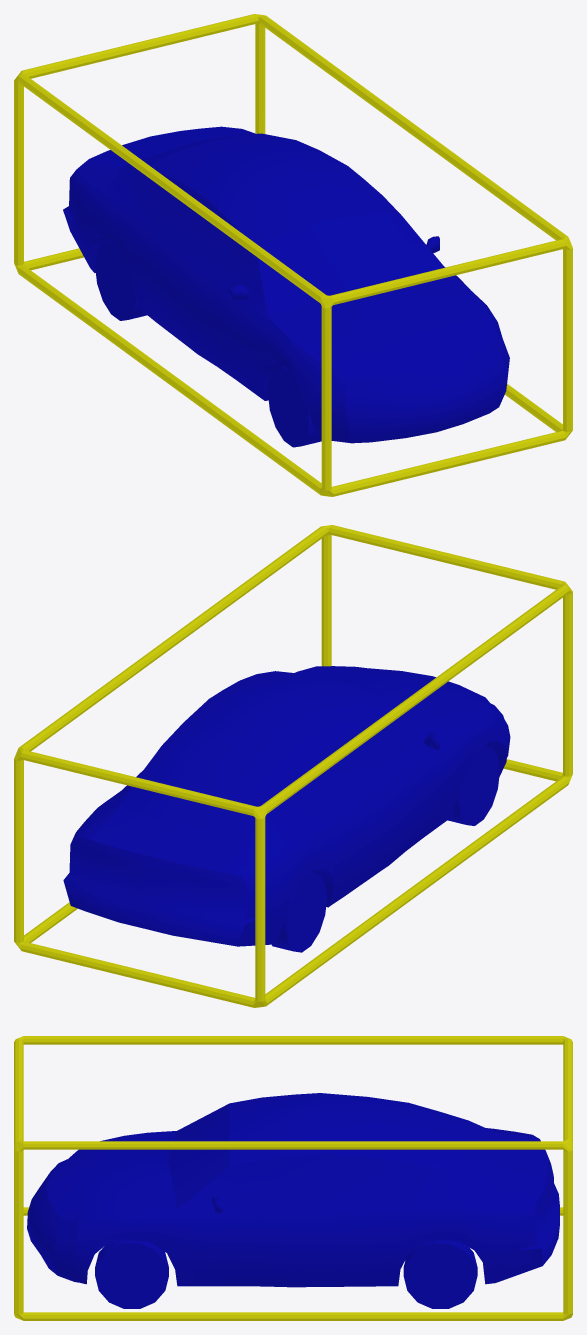
The model's file is carbox.glb.
3 renders of one model, top to bottom at view 1: azimuth 30°, elevation 25°; view 2: azimuth 150°, elevation 25°; view 3: azimuth 270°, elevation 25°, orthographic. The views are drawn at different scales.
Visible parts, largest first — view 1: car, Cube_Line; view 2: car, Cube_Line; view 3: car, Cube_Line.
Part boxes in pixels (x1=…): car: x1=63, y1=126, x2=509, y2=447; Cube_Line: x1=14, y1=14, x2=572, y2=496; car: x1=63, y1=666, x2=510, y2=952; Cube_Line: x1=14, y1=525, x2=572, y2=1007; car: x1=27, y1=1093, x2=559, y2=1308; Cube_Line: x1=14, y1=1036, x2=572, y2=1320.
Bounding box in the file's own units: 2.25 × 1.72 × 4.87.
